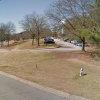Tree: (53, 3, 98, 46)
